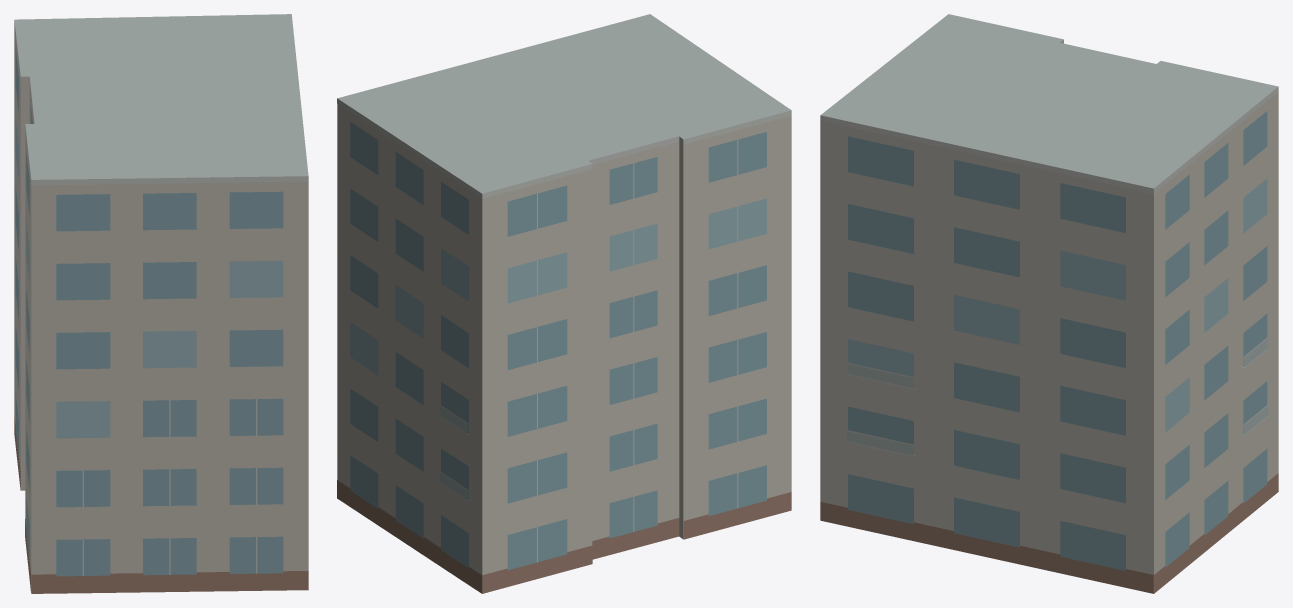
Rendered from survey-upis-32900414.glb.
3 views of the same model, side by side, from view 1: azimuth 30°, elevation 25°; view 2: azimuth 150°, elevation 25°; view 3: azimuth 270°, elevation 25° (orthographic). The views are drawn at different scales.
Parts seen in each view (by area): view 1: survey-upis-32900414.tmp; view 2: survey-upis-32900414.tmp; view 3: survey-upis-32900414.tmp.
Part boxes in pixels (<box>): survey-upis-32900414.tmp: <box>14,14,308,593</box>; survey-upis-32900414.tmp: <box>337,14,791,593</box>; survey-upis-32900414.tmp: <box>820,14,1278,593</box>.
Size of the model in its own units: 16.91 by 18.3 by 18.76.
